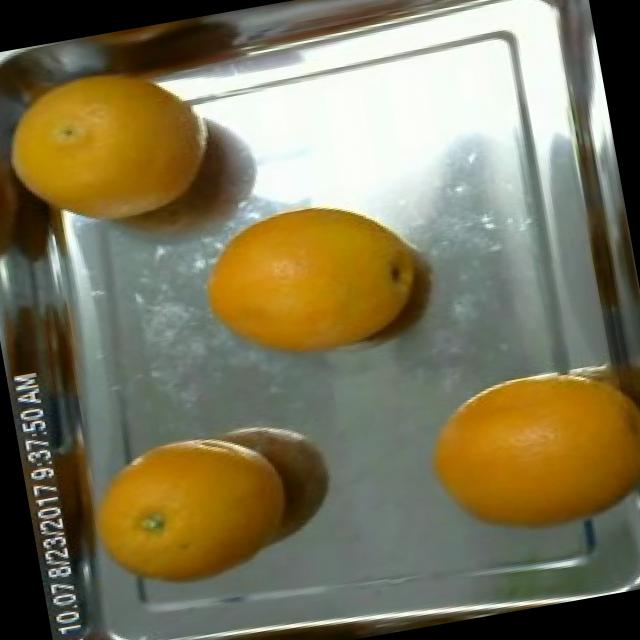Fruit: (62, 400, 316, 618), (174, 185, 401, 387), (59, 5, 276, 102), (0, 49, 22, 102)
